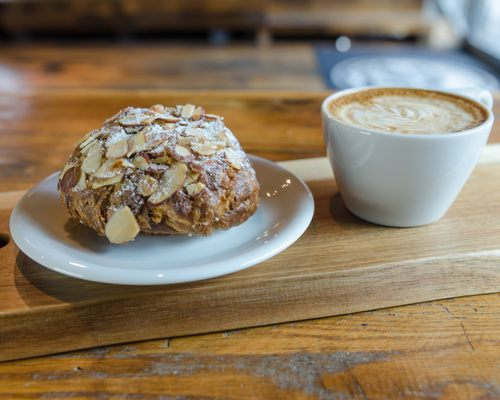pizza: (320, 85, 496, 228)
